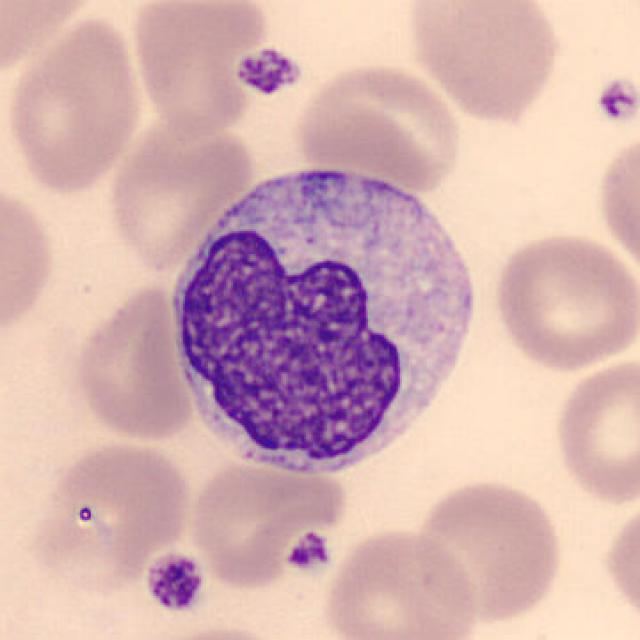Monocyte: (162, 143, 490, 492)
Platelets: (142, 550, 208, 615), (231, 44, 304, 99), (590, 72, 638, 129), (282, 530, 332, 574)
RBC: (25, 435, 194, 596), (2, 12, 149, 196), (105, 108, 259, 275), (409, 474, 567, 628), (292, 58, 466, 192), (68, 277, 199, 446), (183, 456, 347, 590), (489, 227, 636, 374), (404, 0, 566, 125), (126, 0, 265, 141), (320, 523, 480, 640), (550, 352, 638, 508), (0, 175, 59, 348), (0, 0, 101, 77), (592, 124, 638, 282), (599, 496, 640, 632), (124, 624, 300, 640)
